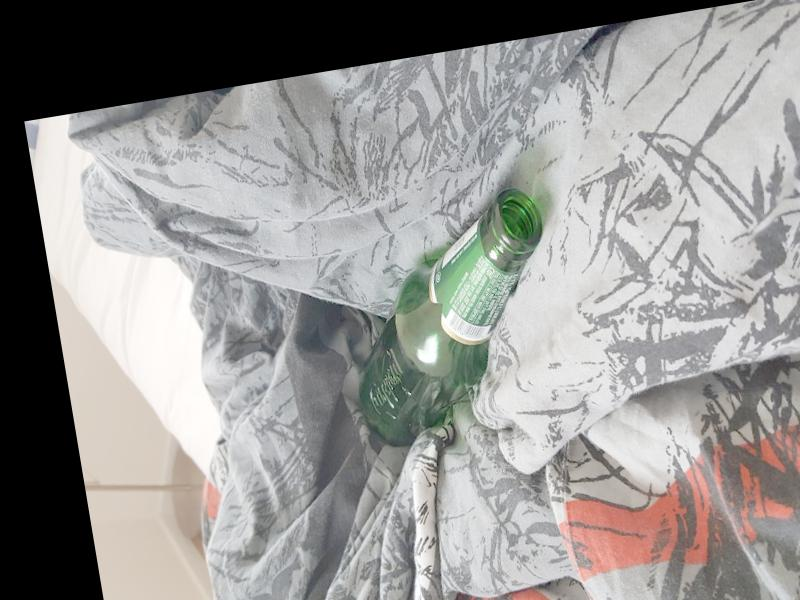Beer: (330, 188, 575, 453)
